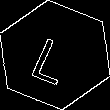L_NE: (29, 26, 81, 84)
